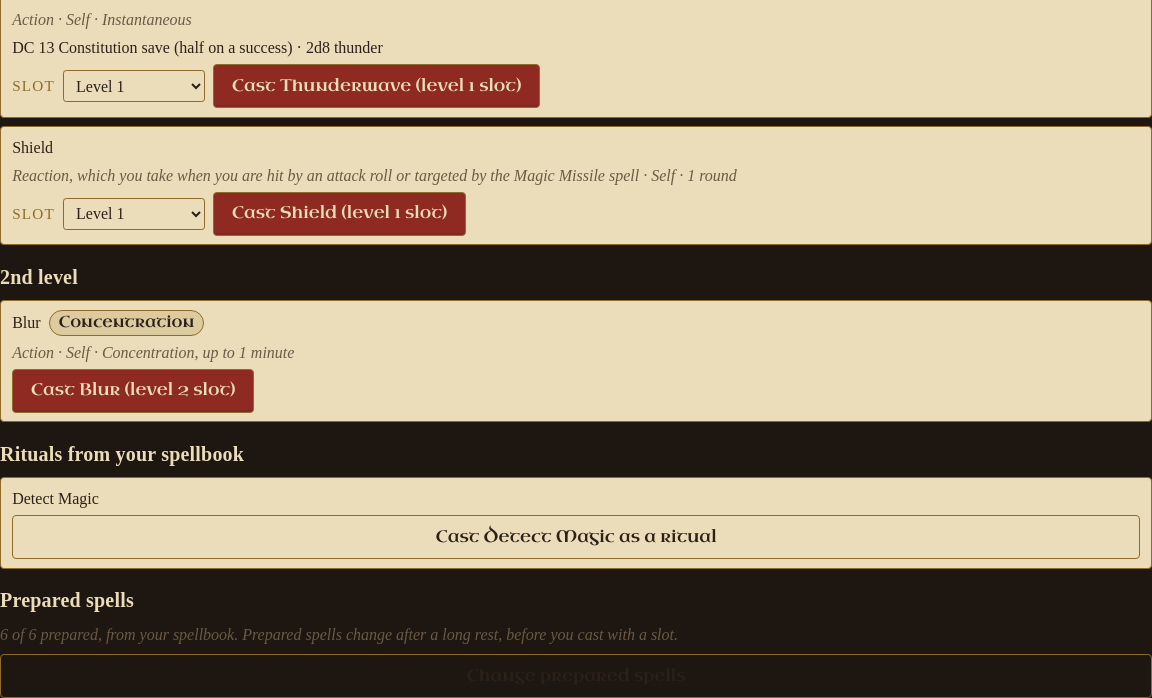
Test: the Spells tab (P2-11) › keeps preparing within the limit, and only after a rest when the campaign says so
The width and height of the screenshot is (1152, 698).
(page scrolled)
Click the button "Change prepared spells" at (576, 676), box left=0, top=654, right=1151, bottom=697
(page scrolled)
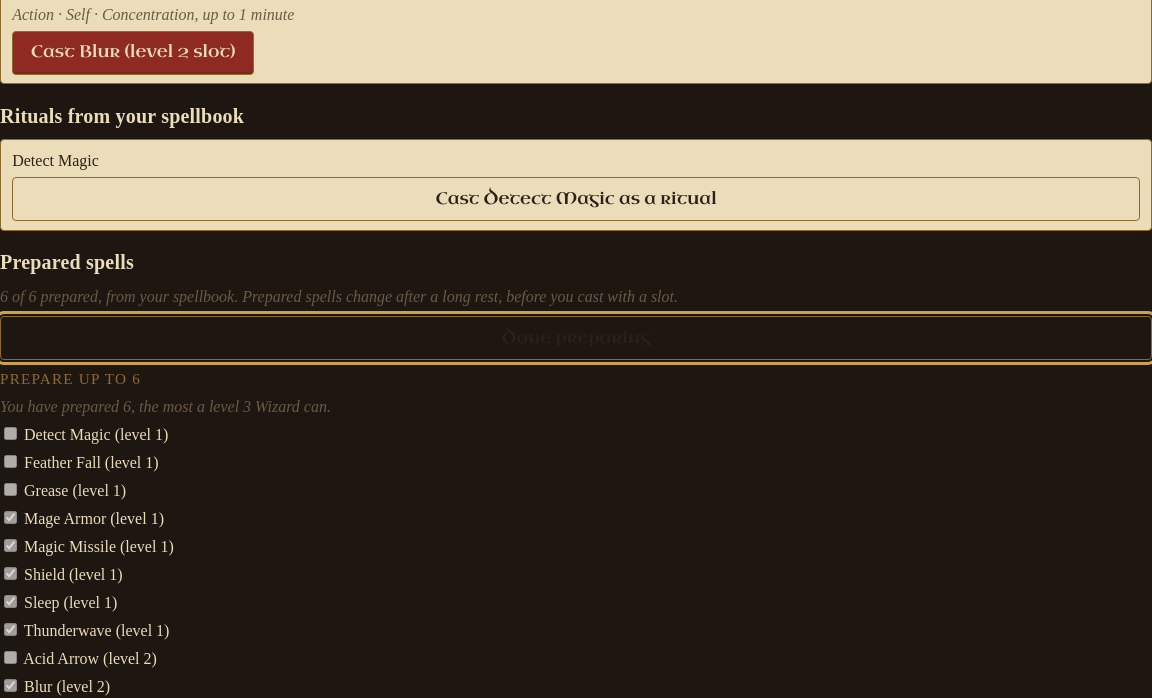
Expected: the element "Prepare up to 6" is disabled, left=0, top=370, right=331, bottom=695
Expected: the text "You have prepared 6, the most a level 3 Wizard can." is shown, left=0, top=398, right=331, bottom=415
Expected: the checkbox labelled "Grease (level 1)" is disabled, left=4, top=483, right=17, bottom=496
